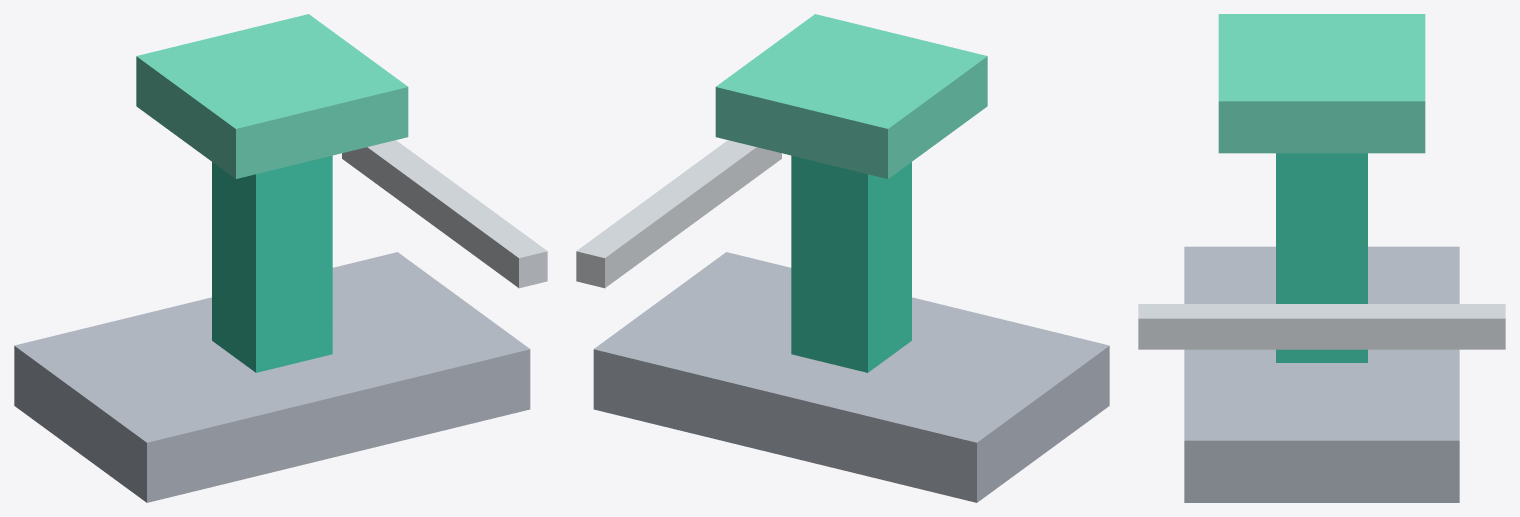
File: multipart-sample.glb
3 views of the same model, side by side, from view 1: azimuth 30°, elevation 25°; view 2: azimuth 150°, elevation 25°; view 3: azimuth 270°, elevation 25° (orthographic). The views are drawn at different scales.
Parts seen in each view (by area): view 1: Base, Cap, Column, Pin; view 2: Base, Cap, Column, Pin; view 3: Base, Cap, Pin, Column.
Part boxes in pixels (left/top/right/bottom): Base: left=14, top=252, right=530, bottom=502; Cap: left=136, top=14, right=408, bottom=178; Column: left=212, top=155, right=332, bottom=372; Pin: left=342, top=140, right=547, bottom=288; Base: left=593, top=252, right=1109, bottom=502; Cap: left=715, top=14, right=987, bottom=178; Column: left=791, top=155, right=911, bottom=372; Pin: left=576, top=140, right=781, bottom=288; Base: left=1184, top=246, right=1459, bottom=502; Cap: left=1218, top=14, right=1425, bottom=153; Pin: left=1138, top=304, right=1505, bottom=349; Column: left=1276, top=153, right=1367, bottom=362.
Size of the model in its own units: 2 by 1.68 by 1.6.
